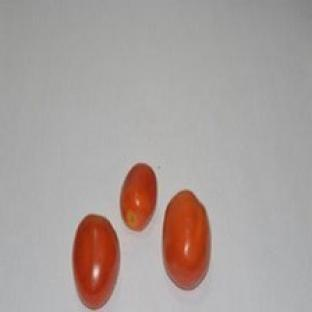Tomato: (163, 191, 210, 289), (73, 215, 119, 309), (120, 163, 157, 231)
